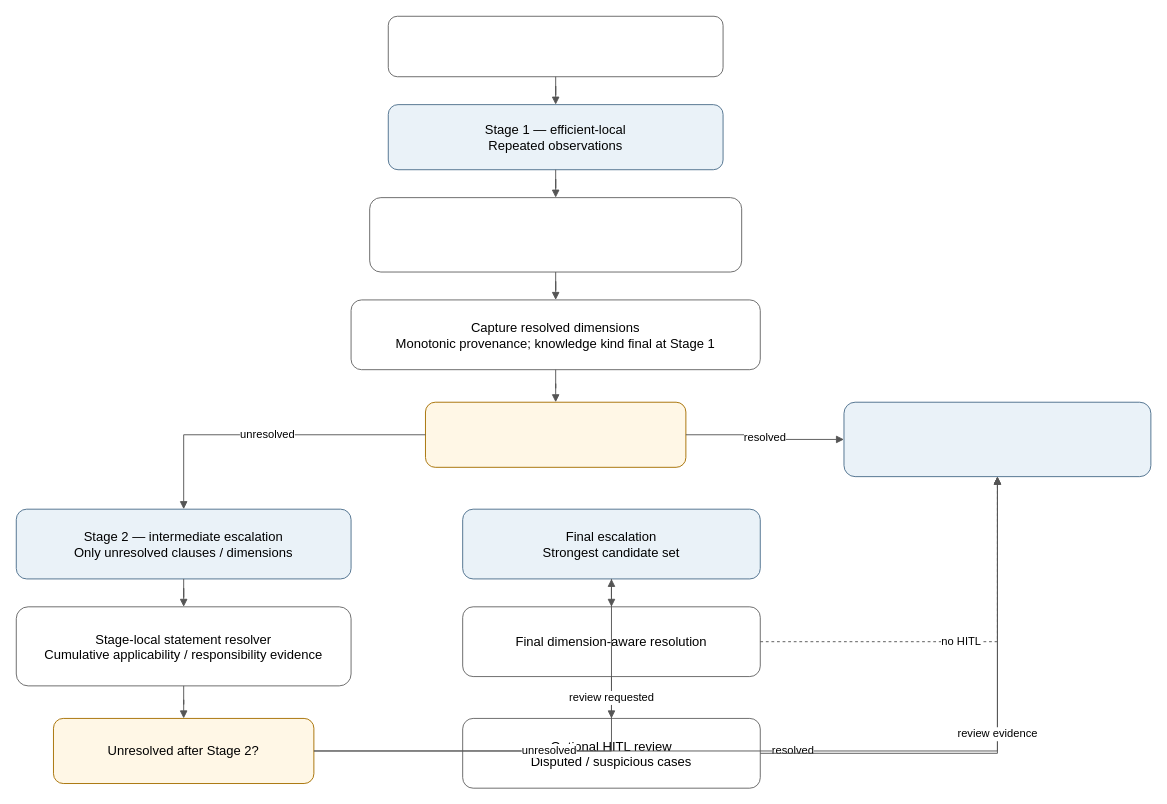
Some shapes in this 1167 by 804 pixel diagram are drawn without their labels. Each missing label, with the box of its shape:
Dimension-aware consensus statement · knowledge · applicability · responsibility: (369, 197, 742, 272)
Escalation reasons remain?: (425, 401, 686, 467)
Qualification corpus + matrix manifest: (387, 15, 723, 77)
Qualification evidence bundle qualification-run-NNN.zip: (843, 401, 1151, 477)
